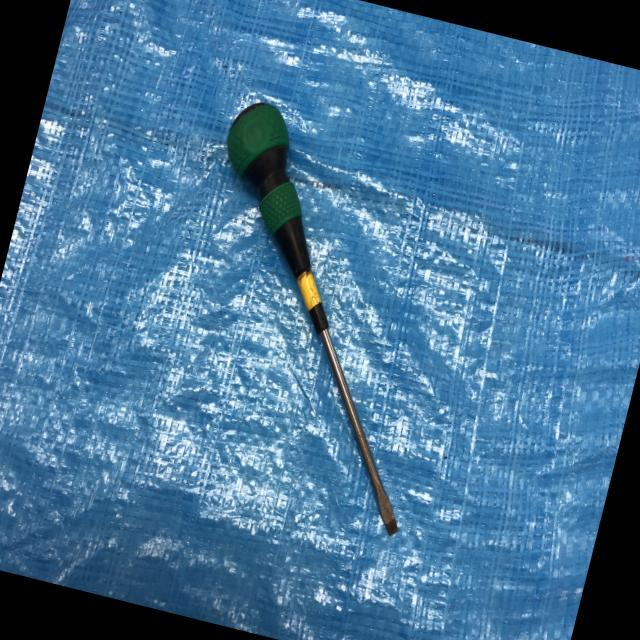screwdriver: (135, 92, 496, 546)
